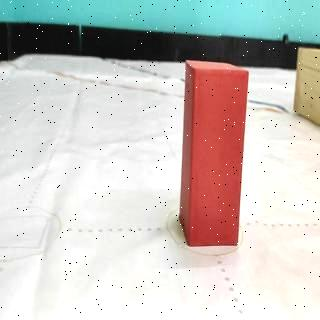redbox: (182, 60, 248, 247)
